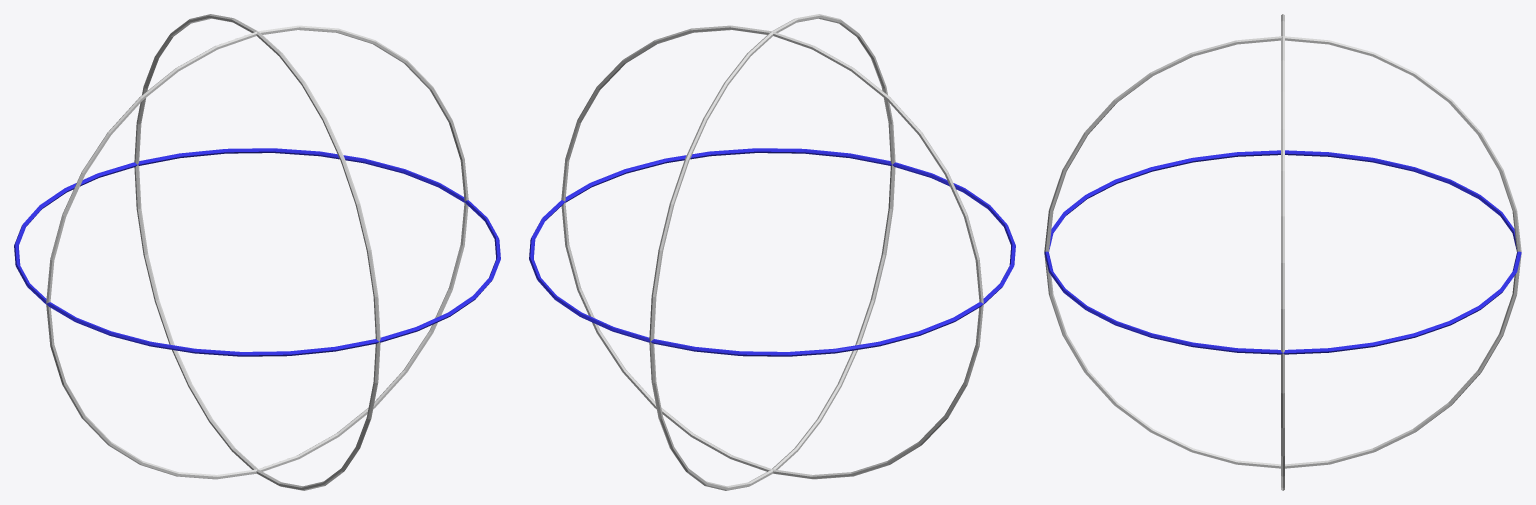
The model's file is axisplanes.dae.
3 views of the same model, side by side, from view 1: azimuth 30°, elevation 25°; view 2: azimuth 150°, elevation 25°; view 3: azimuth 270°, elevation 25° (orthographic). The views are drawn at different scales.
Visible parts, largest first — view 1: YAxis, XAxis, ZAxis; view 2: YAxis, XAxis, ZAxis; view 3: XAxis, ZAxis, YAxis.
Boxes of the visible parts, bbox=[...] form: YAxis: bbox=[46, 25, 468, 479]; XAxis: bbox=[134, 14, 380, 490]; ZAxis: bbox=[14, 148, 500, 356]; YAxis: bbox=[561, 25, 983, 479]; XAxis: bbox=[649, 14, 895, 490]; ZAxis: bbox=[529, 148, 1015, 356]; XAxis: bbox=[1044, 36, 1521, 468]; ZAxis: bbox=[1044, 150, 1521, 354]; YAxis: bbox=[1281, 14, 1284, 490].
Bounding box in the file's own units: 2.02 × 2.02 × 2.02.
